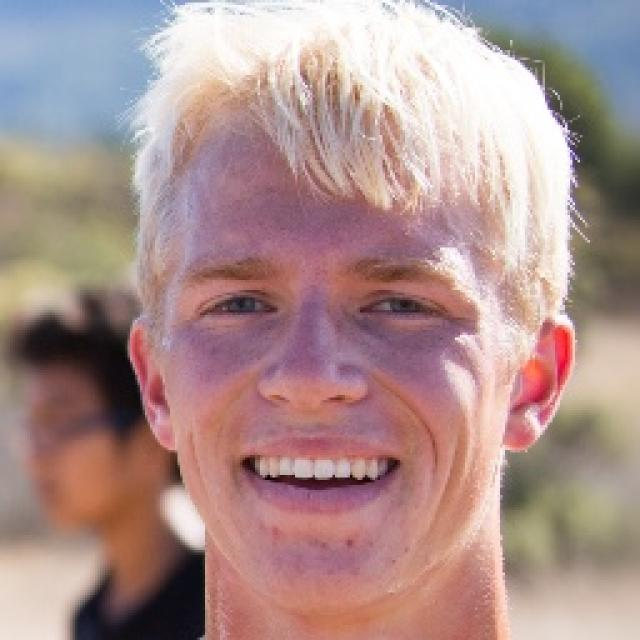earlobe: (502, 312, 578, 450), (126, 312, 176, 454)
